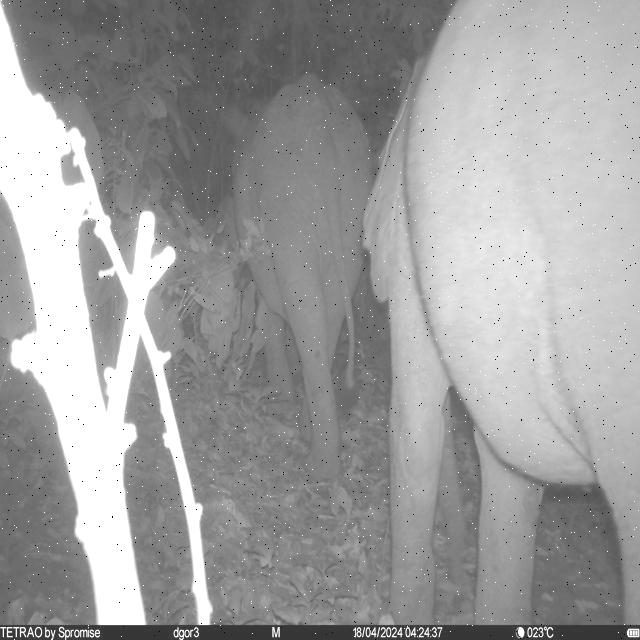elephant: (362, 0, 640, 624), (234, 69, 372, 460)
